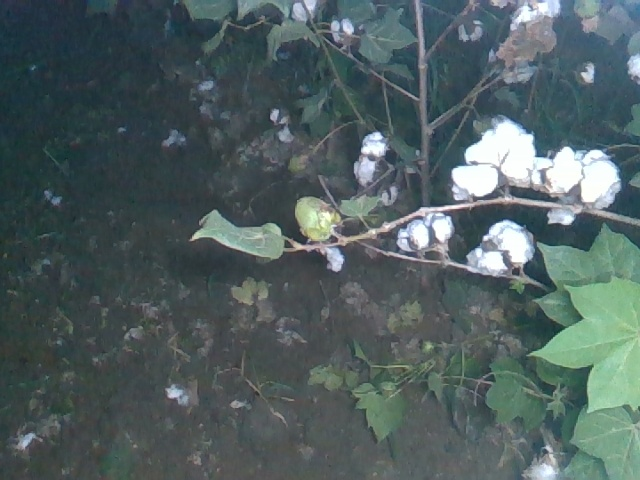cotton: (529, 143, 622, 225), (449, 117, 537, 200), (462, 219, 536, 283), (395, 209, 456, 261), (510, 1, 559, 51), (349, 130, 390, 186), (303, 237, 344, 274), (521, 443, 560, 480), (494, 55, 537, 87), (289, 1, 322, 30), (329, 17, 355, 53), (454, 17, 486, 42), (573, 59, 596, 88), (625, 52, 640, 86), (269, 106, 293, 125), (276, 126, 292, 143)
